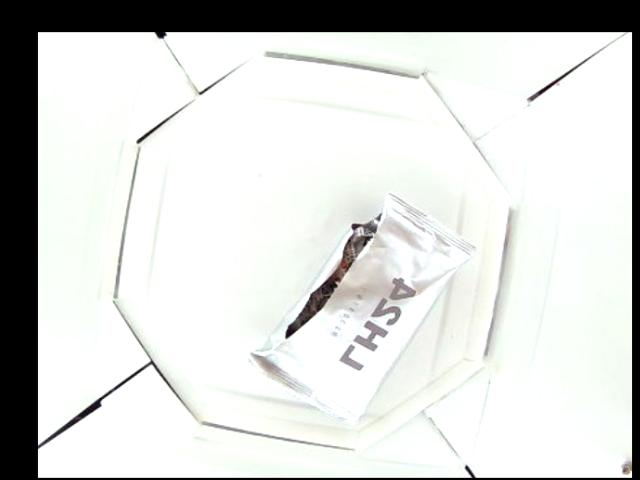Medicine: (249, 190, 473, 419)
